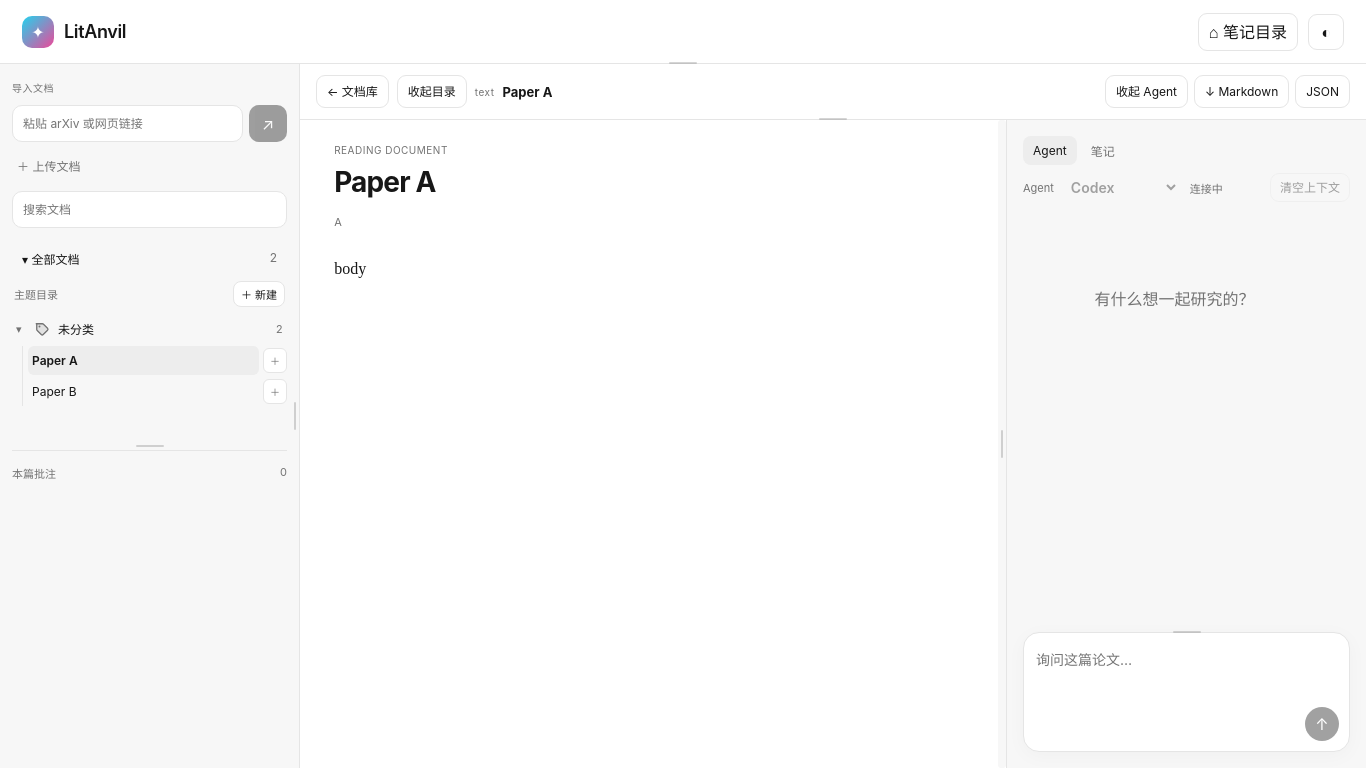
Test: closes a deleted document on external changes and cannot reopen it from a late sync response
Click the button with class "back" at (352, 92), box [316,75,389,108]
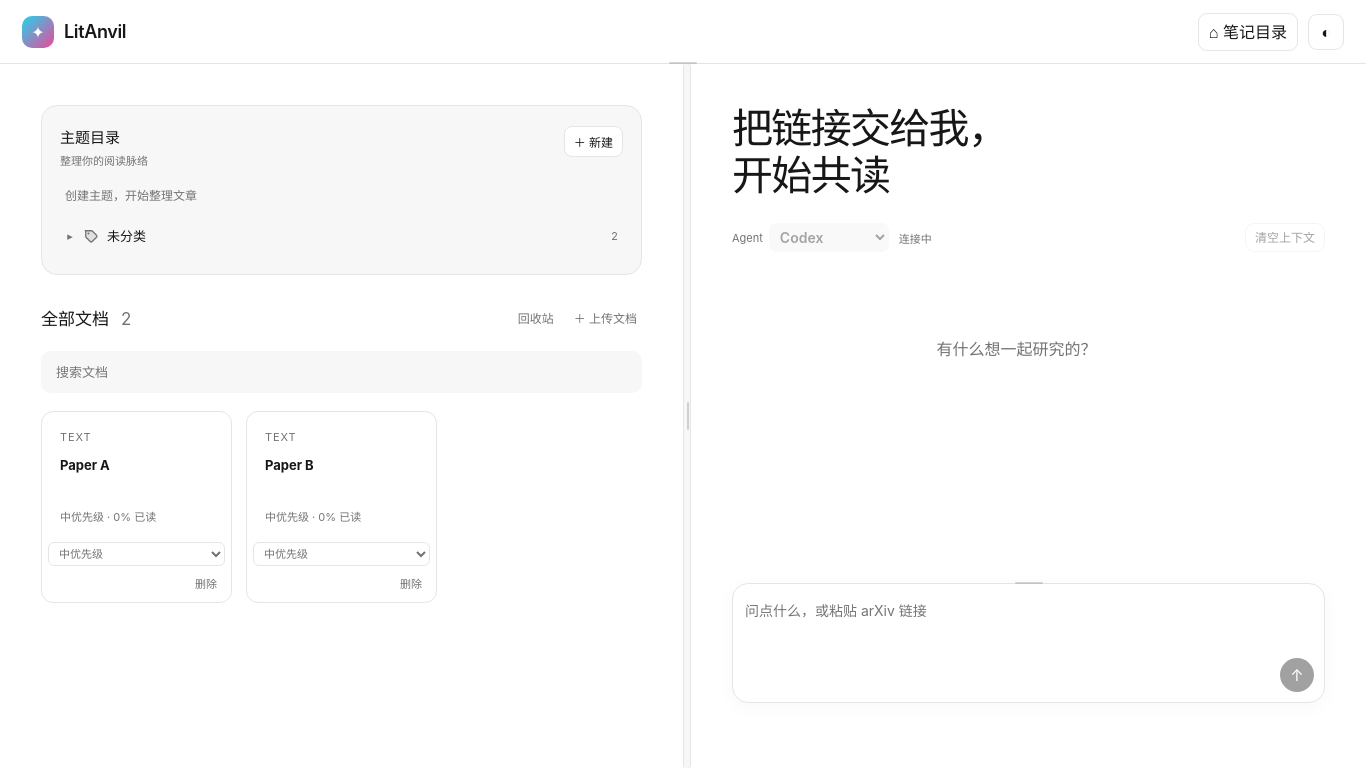
Click the button with class "library-open" showing "text Paper A 中优先级 · 0% 已读" at (136, 477), box [42,412,231,542]
Wait 80 ms
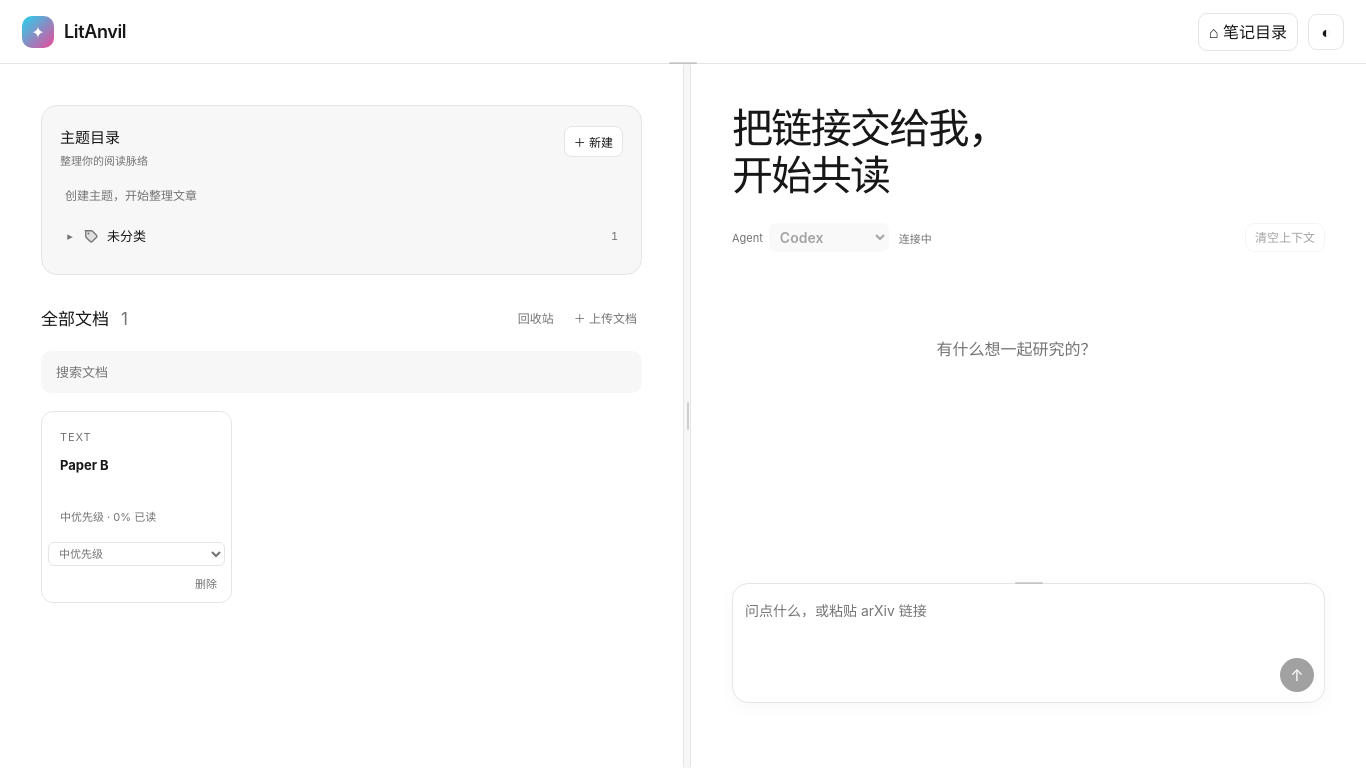
Check: the button "Paper A" is not shown
Check: the number of buttons with class "library-open" is 1, box [42,412,231,542]
